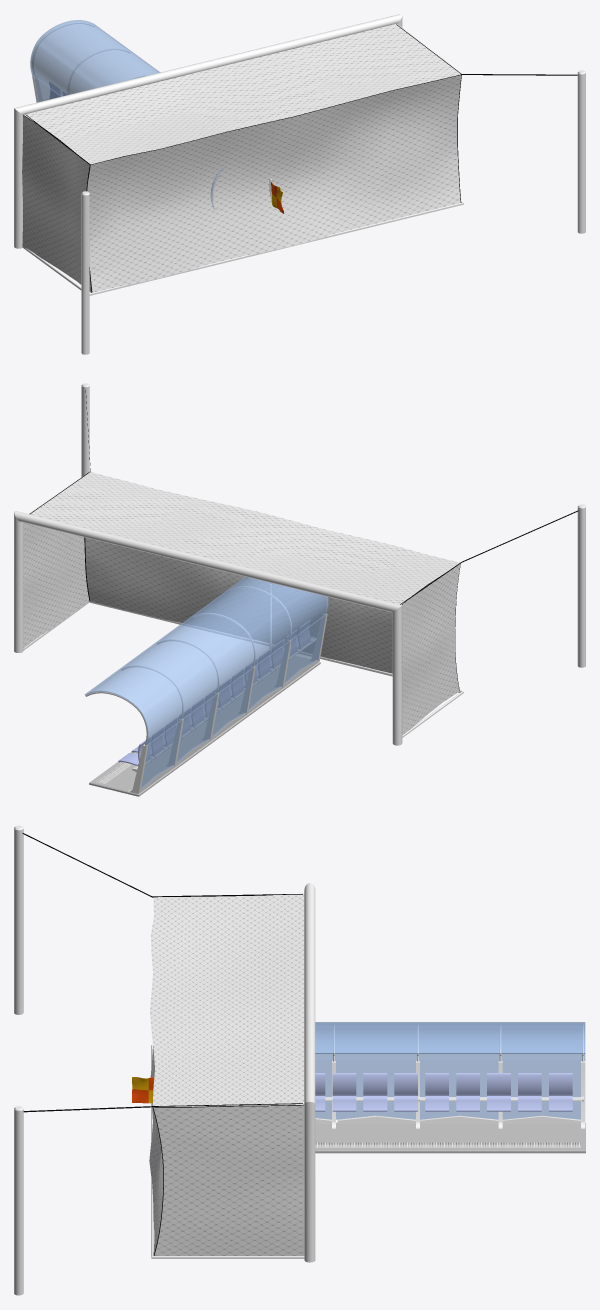
Rendered from FootballPitch.fbx.
The picture shows the model from 3 angles, top to bottom: view 1: azimuth 30°, elevation 25°; view 2: azimuth 150°, elevation 25°; view 3: azimuth 270°, elevation 25°; orthographic projection. The views are drawn at different scales.
Parts seen in each view (by area): view 1: Goal, Dugout; view 2: Goal, Dugout; view 3: Goal, Dugout.
Part boxes in pixels (bbox=[...]): Goal: bbox=[14, 14, 585, 354]; Dugout: bbox=[30, 20, 225, 210]; Goal: bbox=[14, 383, 585, 745]; Dugout: bbox=[84, 576, 328, 796]; Goal: bbox=[14, 825, 315, 1295]; Dugout: bbox=[315, 1022, 585, 1153].
Size of what is drawn, in the model's own units: 984 by 302 by 836.
